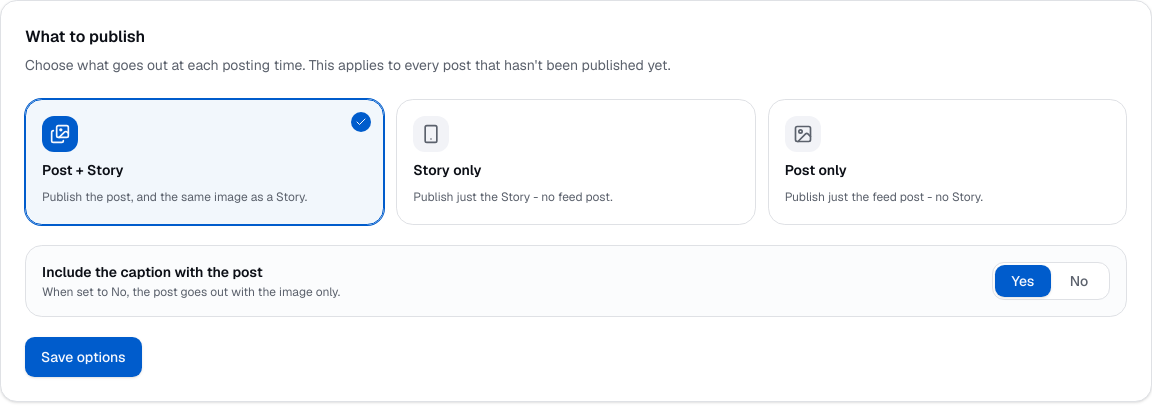
Test: PublishOptionsCard › re-enables the caption choice when switching back to a mode with a post
Click the radio button labelled "Story only Publish just the Story - no feed post.": (431, 134) [396, 99, 756, 224]
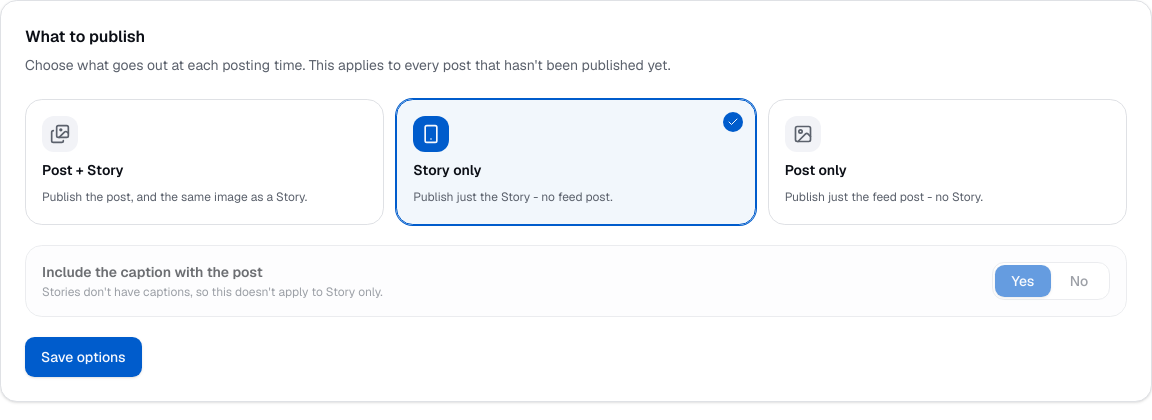
Click the radio button labelled "Post only Publish just the feed post - no Story.": (803, 134) [768, 99, 1127, 224]
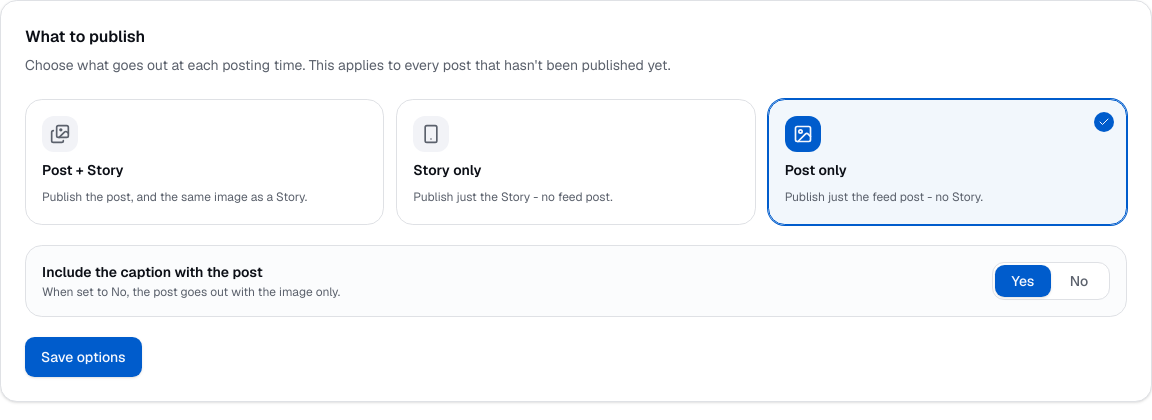
Expected: the radio button labelled "Yes" is enabled, [995, 264, 1051, 296]
